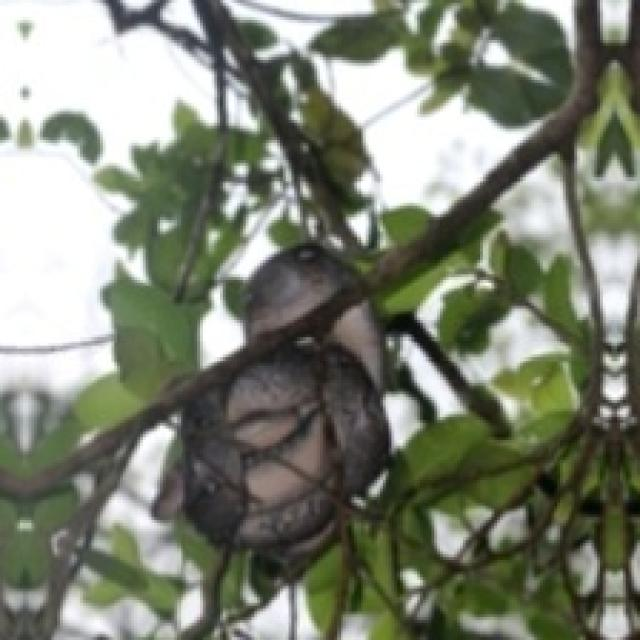reticulated python: (180, 303, 386, 569), (246, 246, 351, 340)
